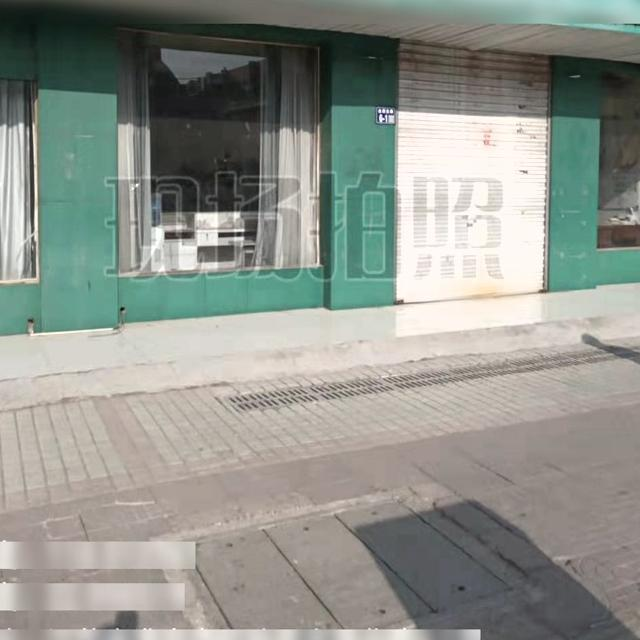good: (171, 489, 527, 640)
